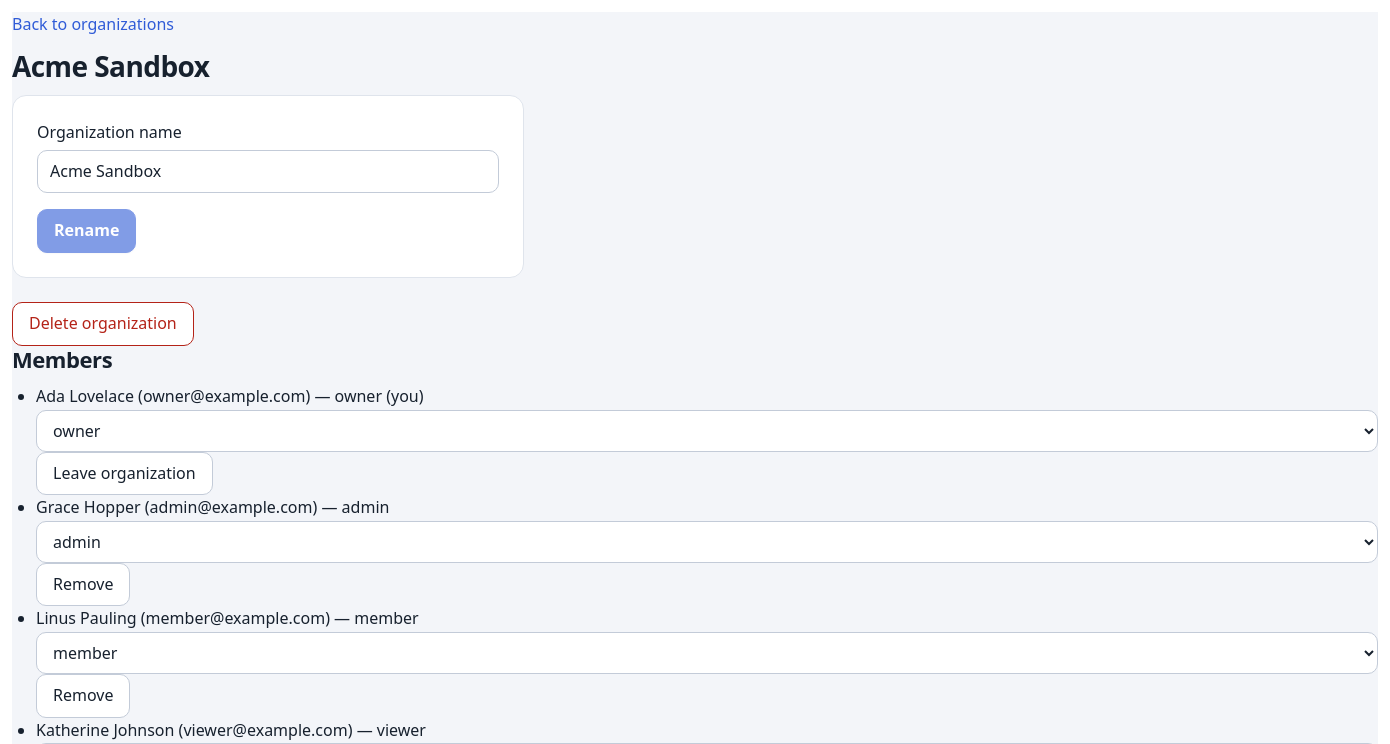
Test: organization detail page (phase 4 §5.1/§5.2) › renames the organization through the form
Expected: the heading "Acme Sandbox" is shown, [12,47,210,85]
Replace the text in the field labelled "Organization name" with "Acme Renamed" at (268, 172), box [37,150,499,193]
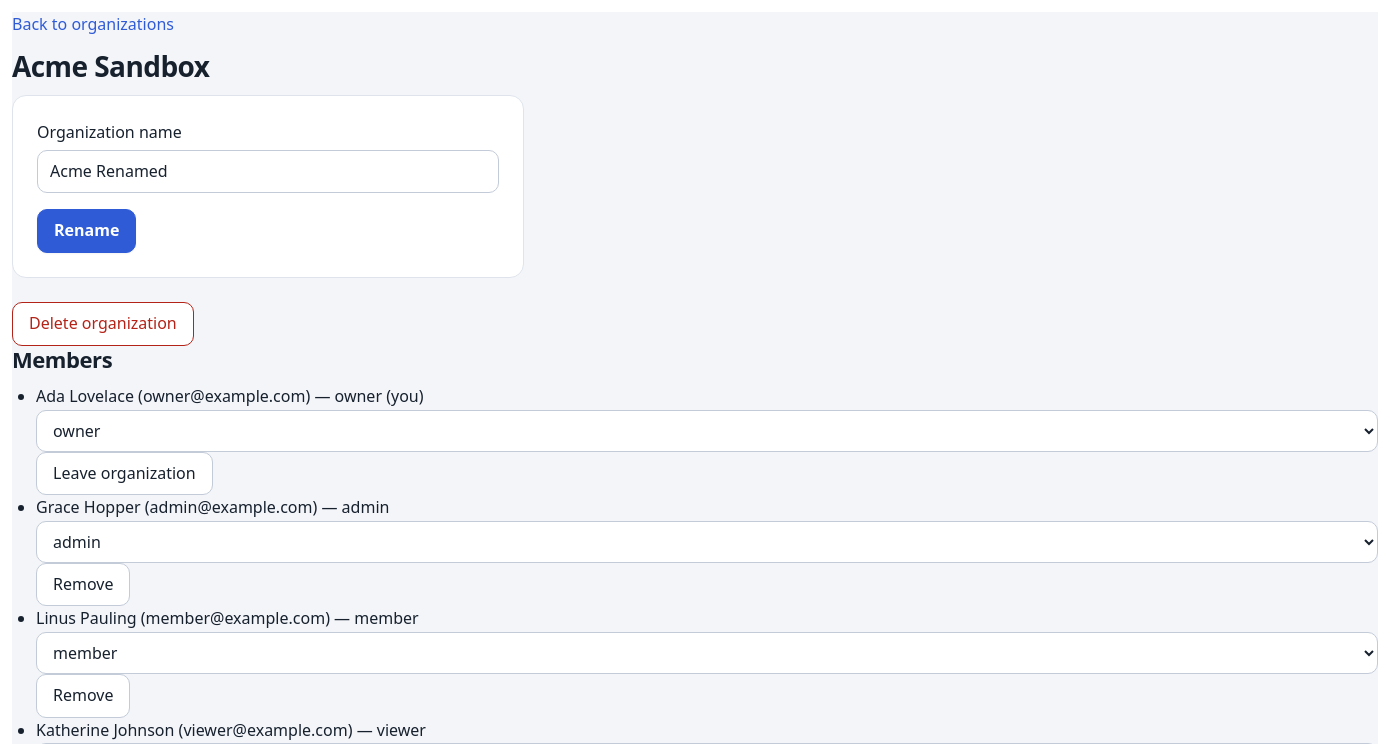
Click the button "Rename" at (87, 231), box [37,209,136,253]
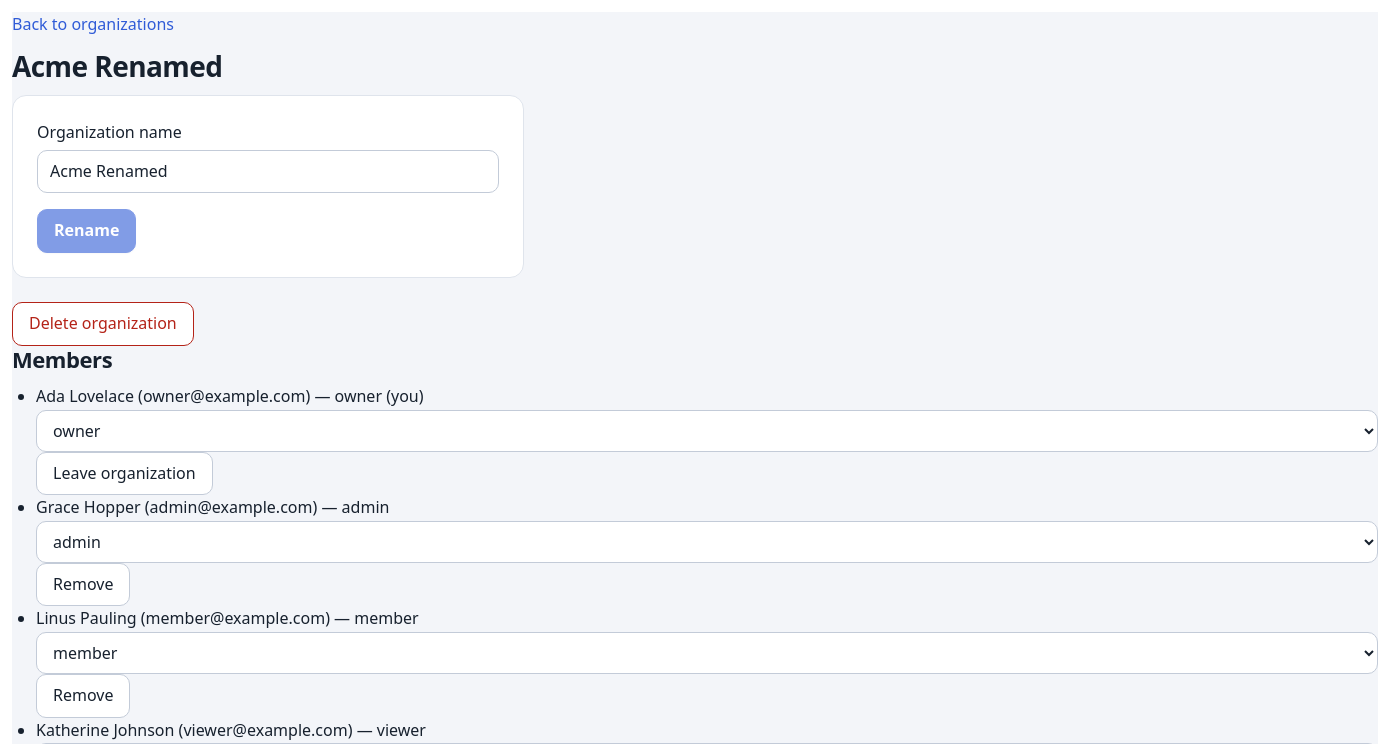
Expected: the heading "Acme Renamed" is shown, [12,47,222,85]
